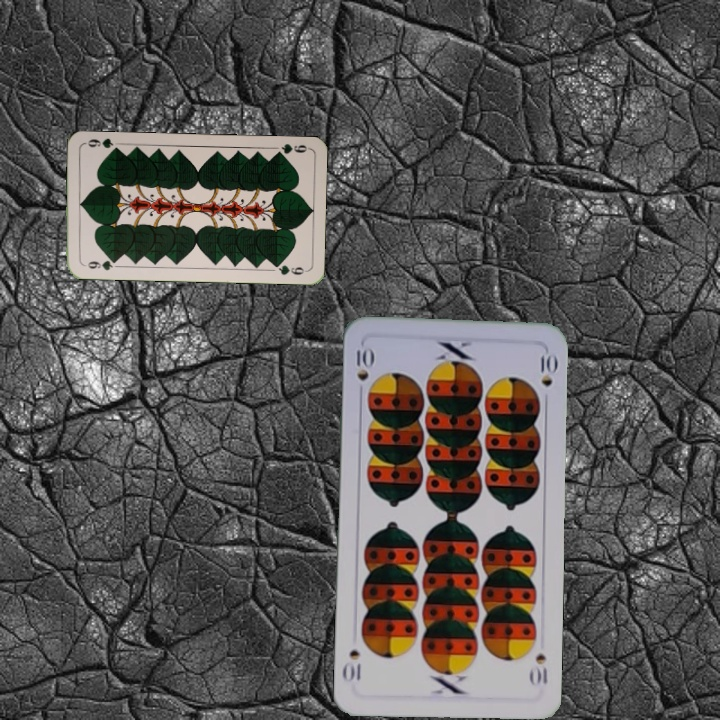G9: (270, 140, 311, 159), (79, 256, 120, 273)
S10: (352, 341, 374, 400), (526, 648, 550, 688)
